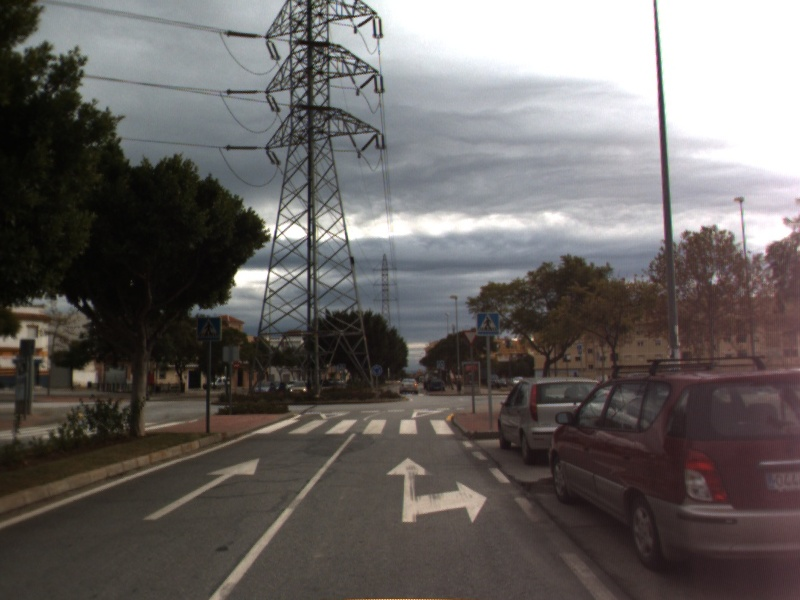STRAIGHT: (140, 456, 262, 522)
STRAIGHT_RIGHT: (383, 455, 490, 525)
